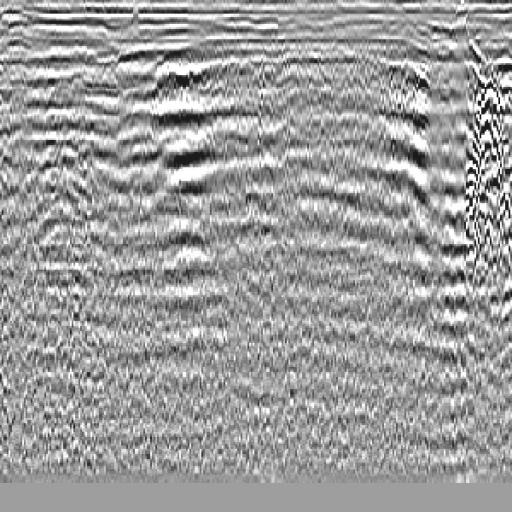non-metallic: (443, 45, 512, 315)
